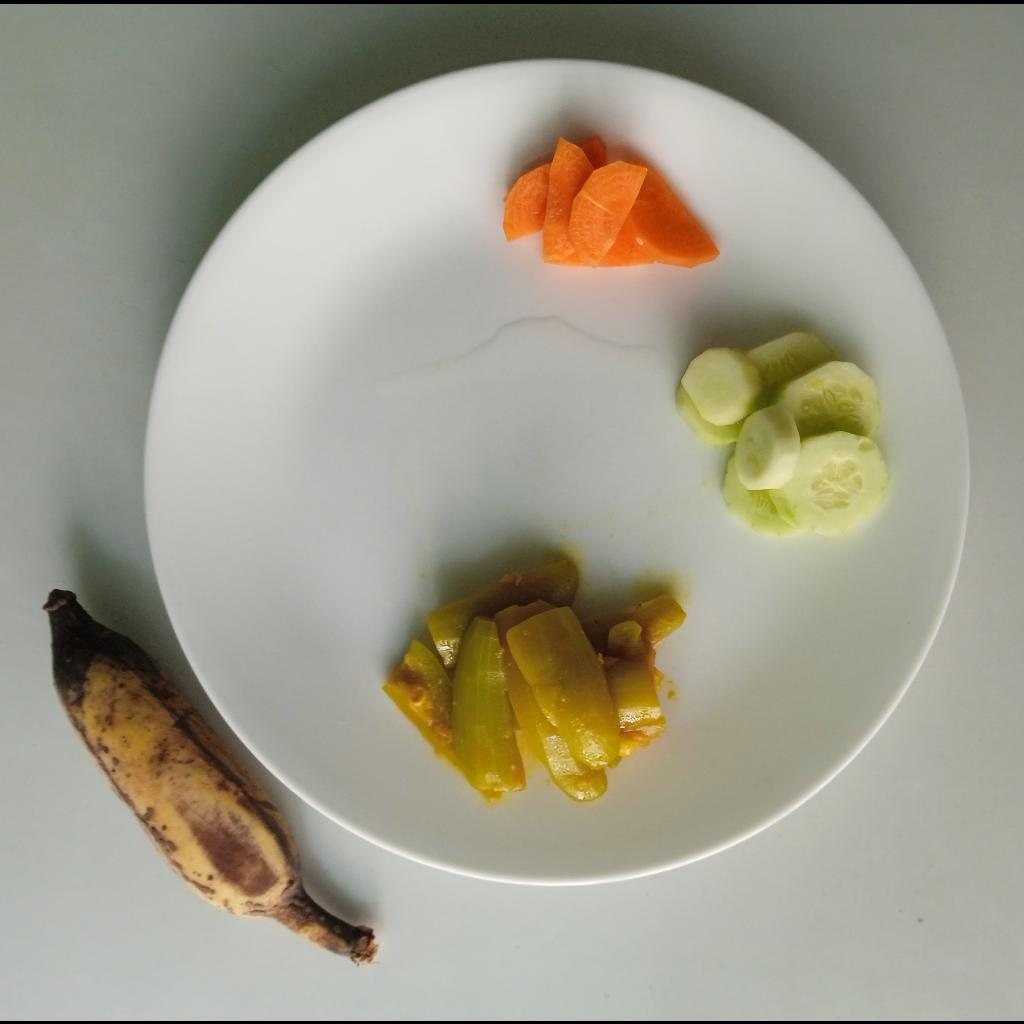banana: (36, 588, 376, 969)
carrot: (500, 132, 723, 270)
cucumber: (673, 329, 899, 539)
potol: (382, 560, 686, 808)
